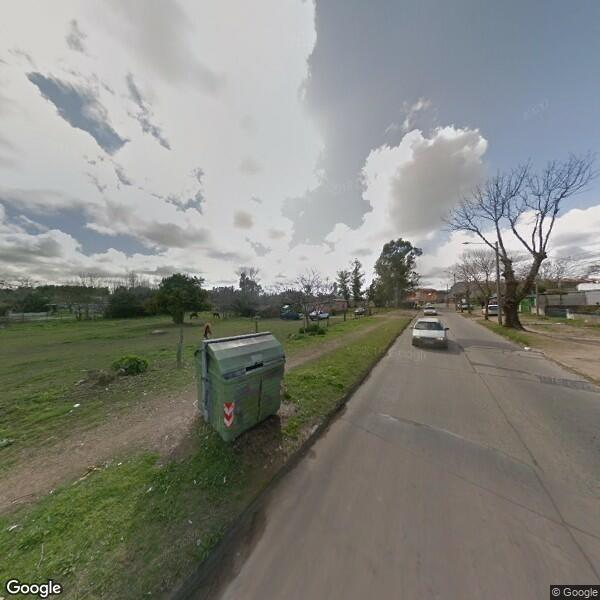Trash: (194, 327, 286, 441)
